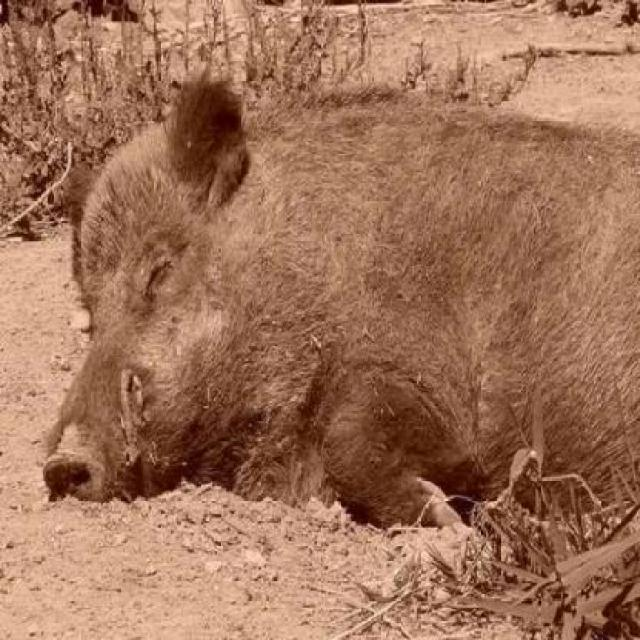Boar: (19, 51, 638, 640)
